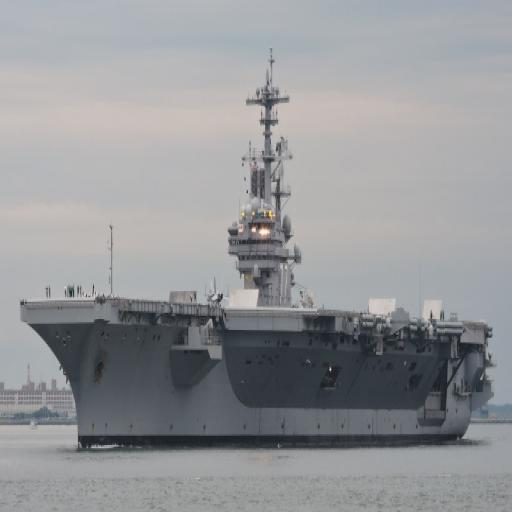Portanaves: (21, 43, 494, 460)
